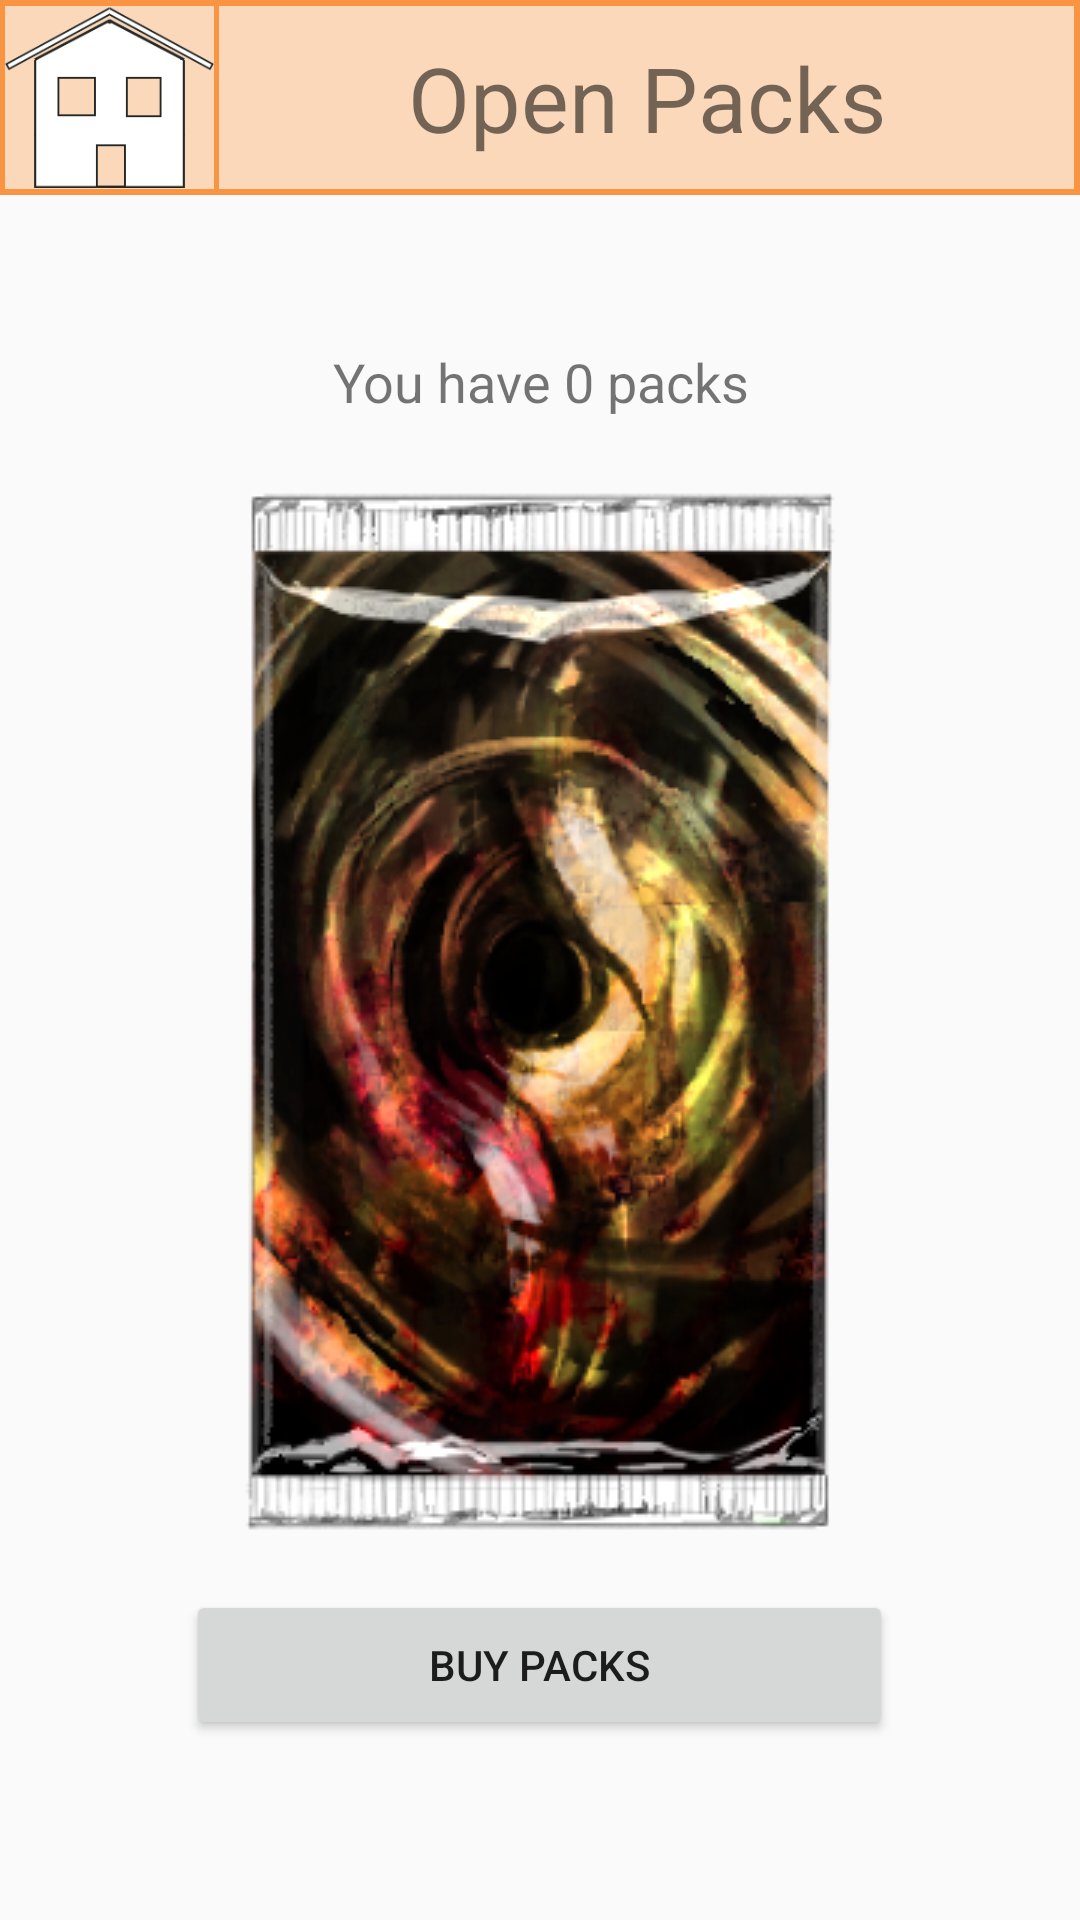

Icon click points for this 1080w x 1920h phone screenshot, format point (x, y):
homebutton: point (109, 97)
